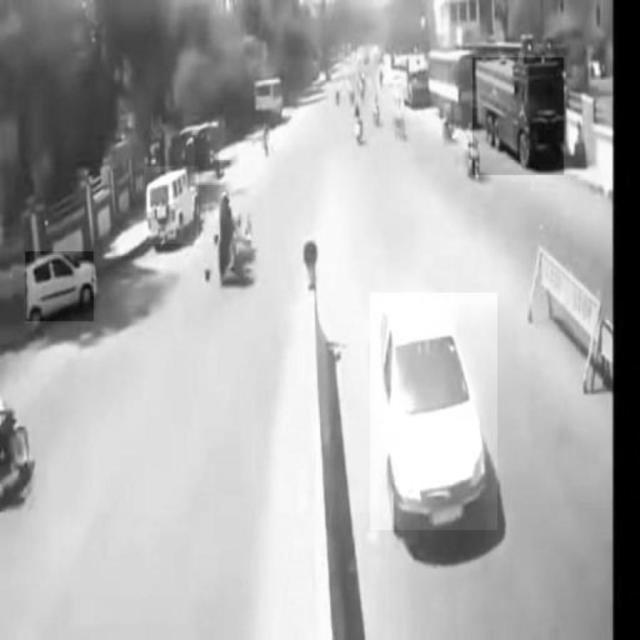accident: (207, 189, 263, 280)
vehicle: (370, 293, 498, 530), (473, 57, 564, 175), (25, 252, 93, 322), (144, 167, 199, 244)
